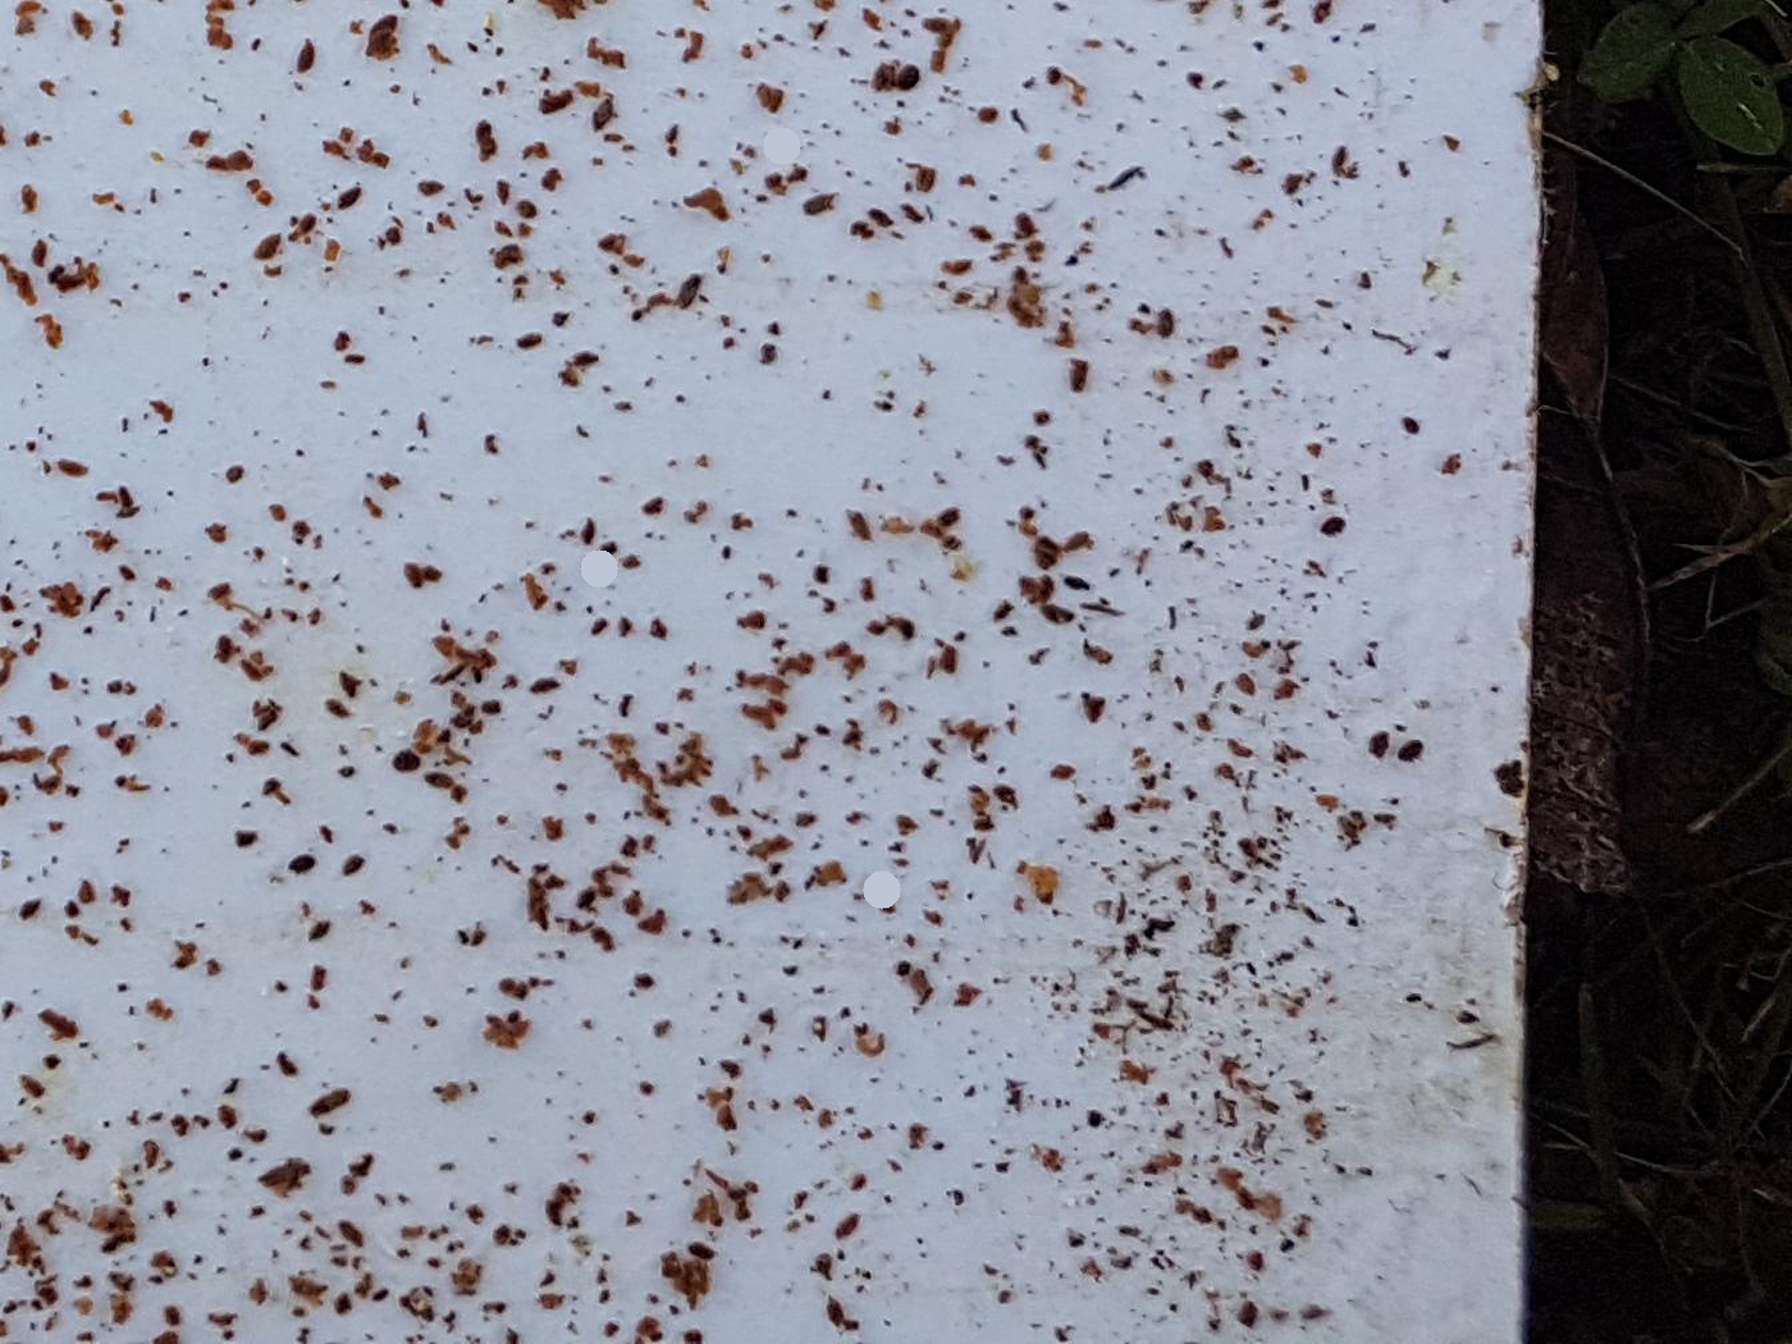Varroa: (389, 737, 429, 774), (888, 64, 919, 95), (1394, 736, 1421, 762), (291, 848, 315, 875), (1319, 521, 1343, 546)
